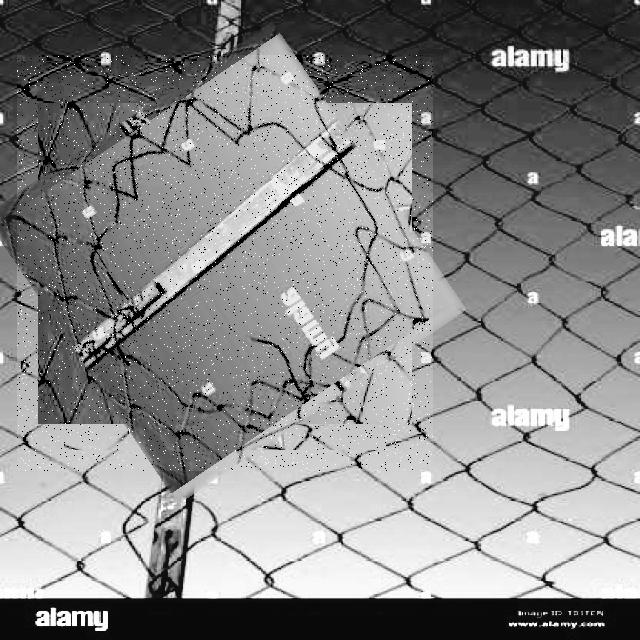anomaly-fence: (17, 55, 433, 471)
